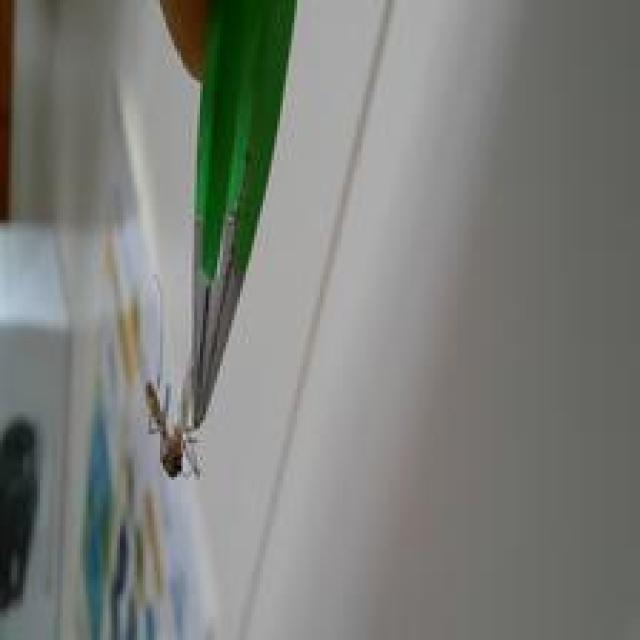Culex: (139, 0, 304, 480)
